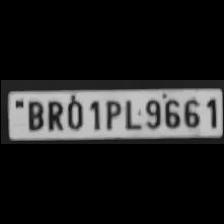0: (64, 97, 84, 130)
1: (84, 97, 102, 130), (202, 96, 220, 128)
6: (180, 96, 200, 128), (162, 96, 180, 128)
9: (141, 96, 161, 130)
B: (22, 99, 44, 131)
L: (120, 97, 140, 131)
P: (100, 97, 119, 130)
R: (43, 98, 63, 132)
